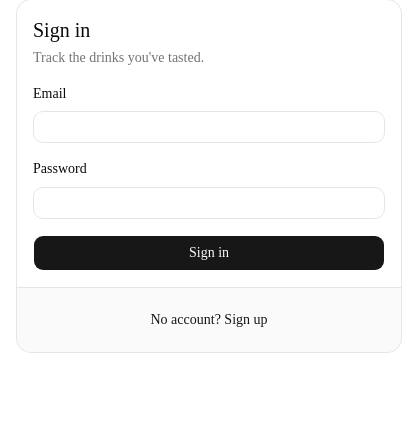
Test: AuthScreen › only shows errors after a submit attempt
This screenshot has width=419, height=426.
Step 1. Type "nope" into the field labelled "Email" → coordinates (209, 127), box [33,111,385,143]
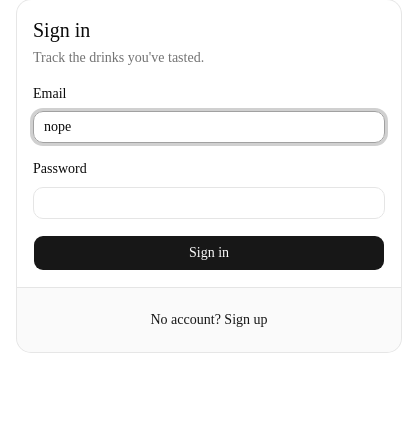
Step 2. Click the button "Sign in" → coordinates (209, 252), box [33,234,385,270]
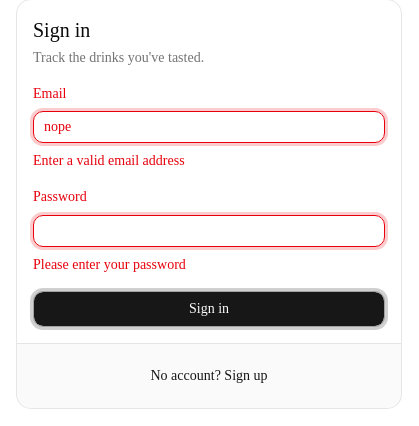
Check: the text "Enter a valid email address" is shown, box [33,153,185,168]
